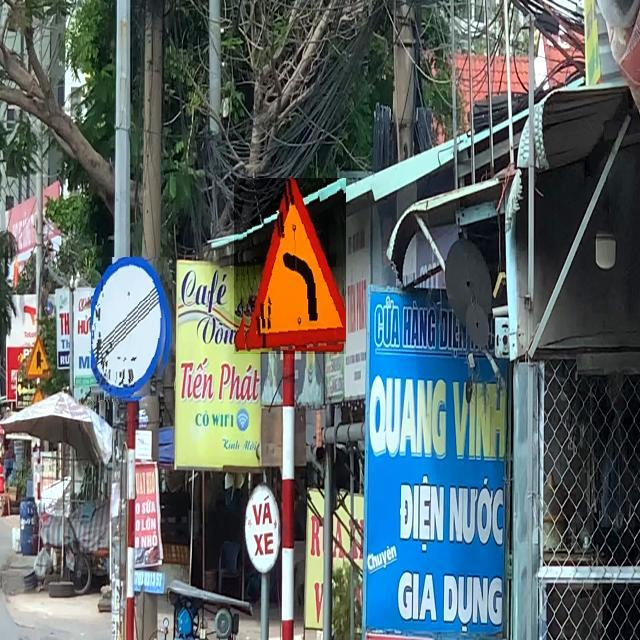DP-135: (92, 257, 172, 402)
W-201a: (234, 178, 346, 354)
